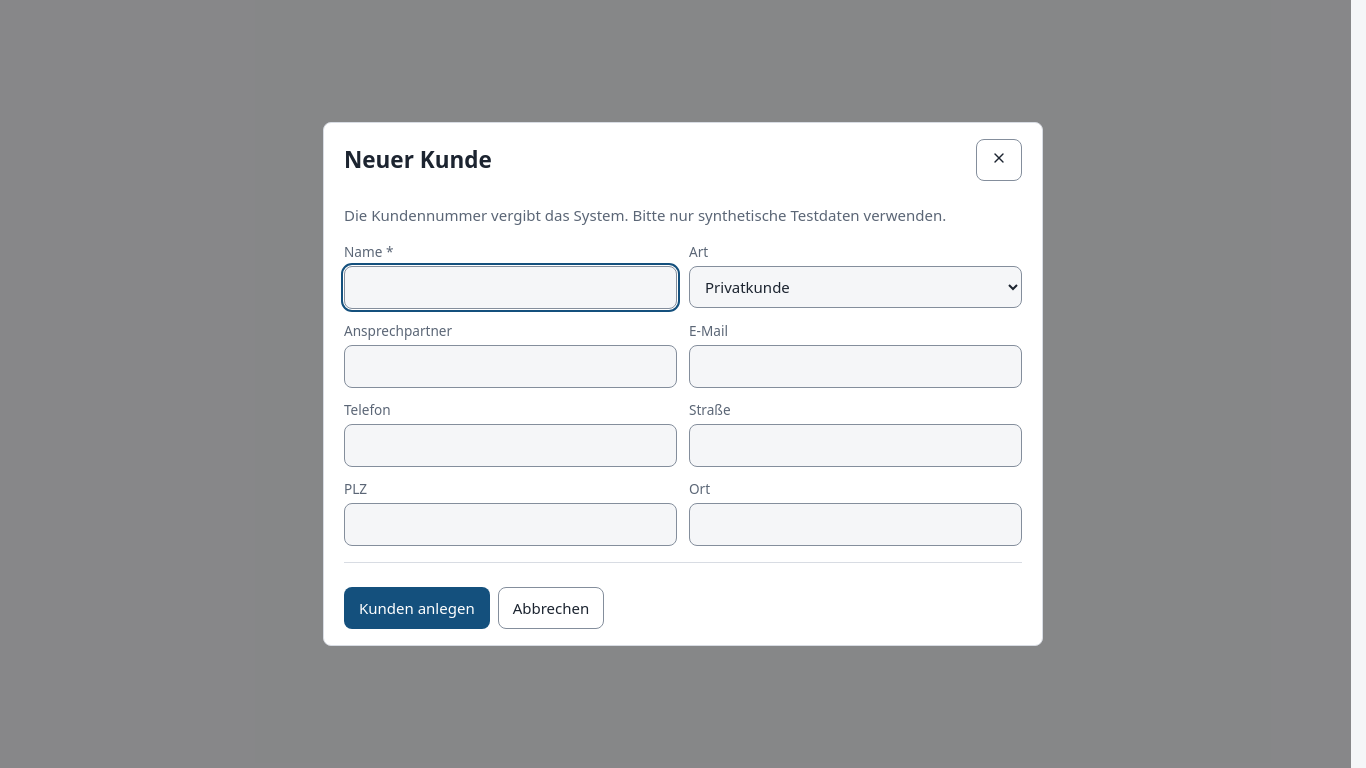
Test: Kundenanlage im Dialog › verlangt einen Namen, bevor gesendet wird
Click the button "Kunden anlegen". click: (417, 608)
box: x1=344 y1=586 x2=490 y2=629
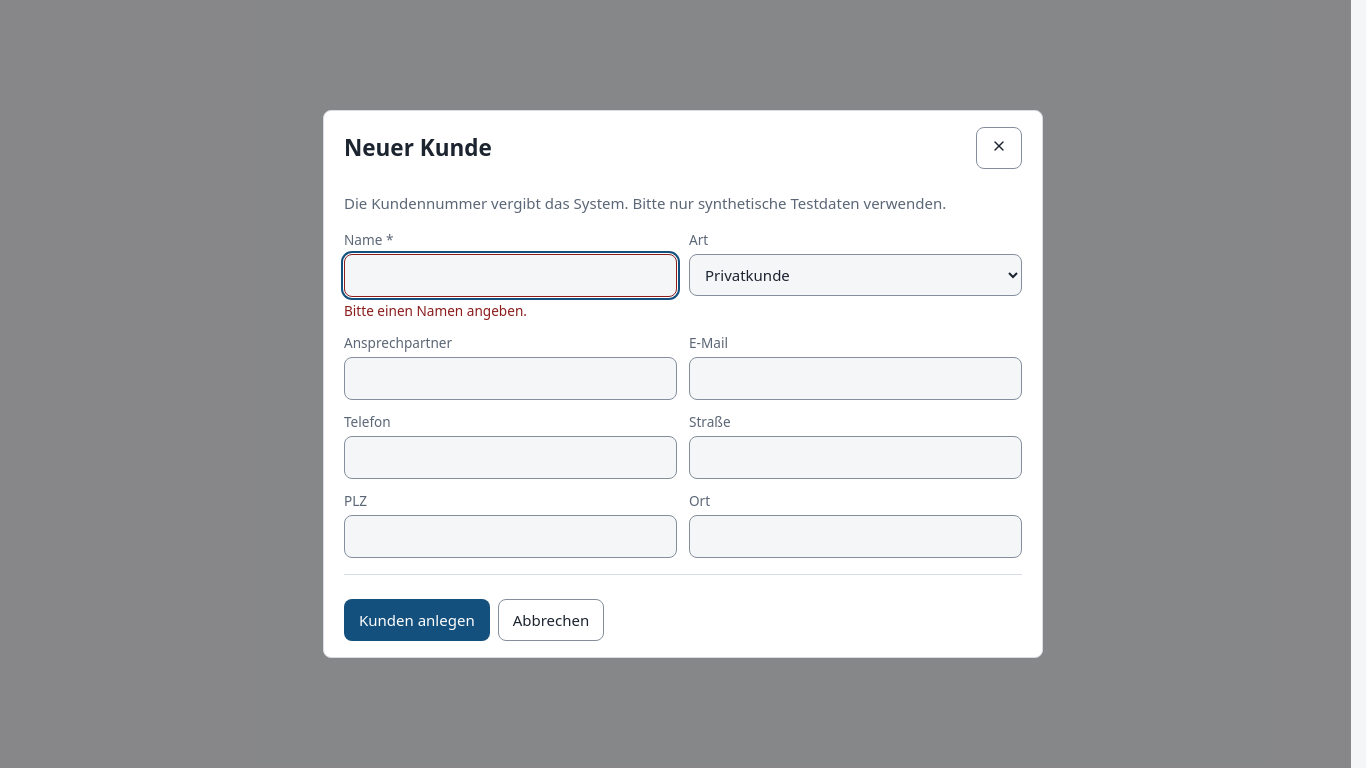
Now the text "Bitte einen Namen angeben." is shown, box x1=344 y1=301 x2=527 y2=320
